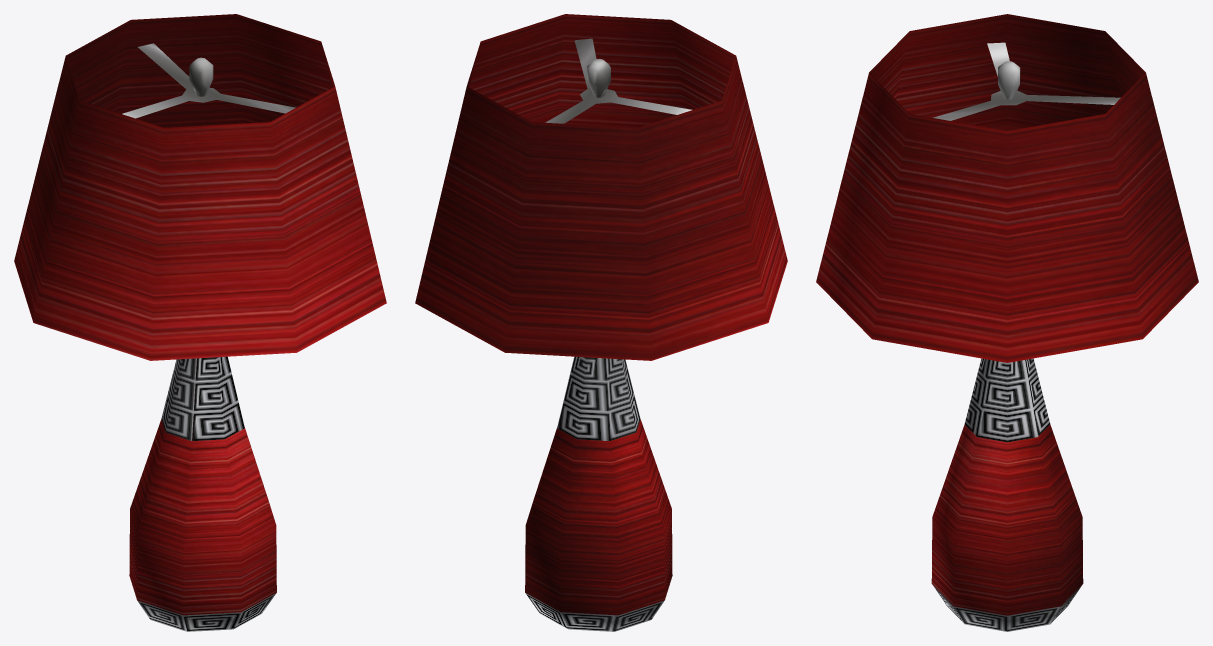
File: lampB.fbx
The picture shows the model from 3 angles, left to right: view 1: azimuth 30°, elevation 25°; view 2: azimuth 150°, elevation 25°; view 3: azimuth 270°, elevation 25°; orthographic projection.
Parts seen in each view (by area): view 1: lampB; view 2: lampB; view 3: lampB.
Part boxes in pixels (box(x1,y1,x2,y2)): lampB: box(14, 14, 386, 631); lampB: box(415, 14, 787, 631); lampB: box(816, 14, 1198, 631).
Size of the model in its own units: 39.49 by 61.76 by 39.49.
1 material, 1 textured.
